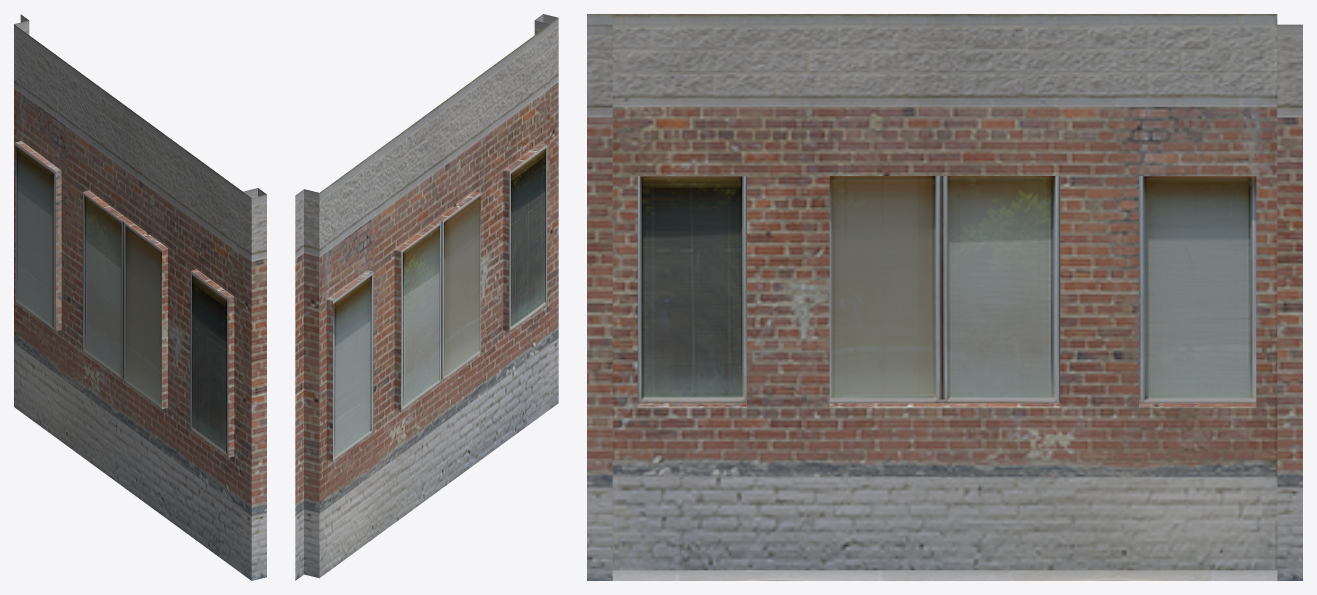
The model's file is wall2.FBX.
3 renders of one model, left to right at view 1: azimuth 30°, elevation 25°; view 2: azimuth 150°, elevation 25°; view 3: azimuth 270°, elevation 25°, orthographic. The views are drawn at different scales.
Visible parts, largest first — view 1: StyleE-Wing5; view 2: StyleE-Wing5; view 3: StyleE-Wing5.
Boxes of the visible parts, box(x1,y1,x2,y2) form: StyleE-Wing5: box(14, 14, 266, 580); StyleE-Wing5: box(295, 14, 558, 580); StyleE-Wing5: box(587, 14, 1302, 580).
Bounding box in the file's own units: 35 × 600 × 700.
